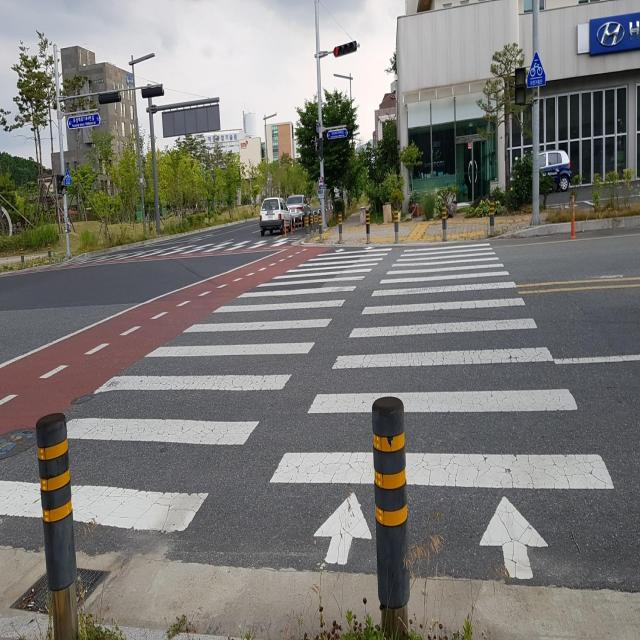횡단보도: (0, 239, 616, 588)
